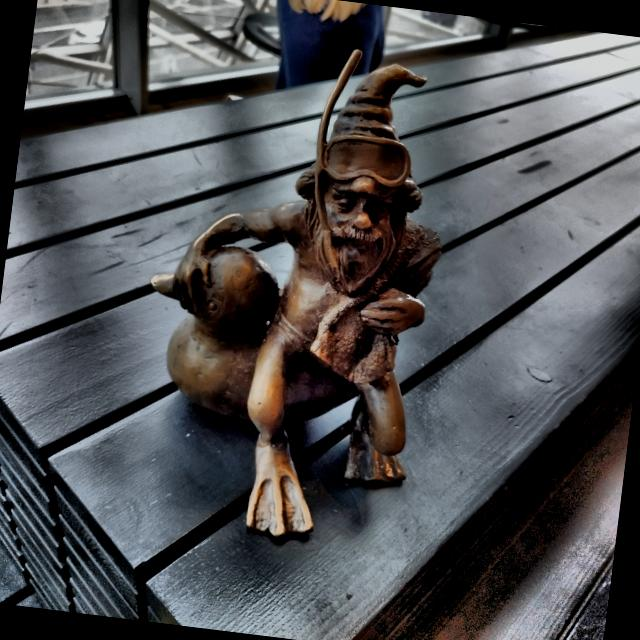Babelek_Chlaptus: (151, 50, 441, 537)
